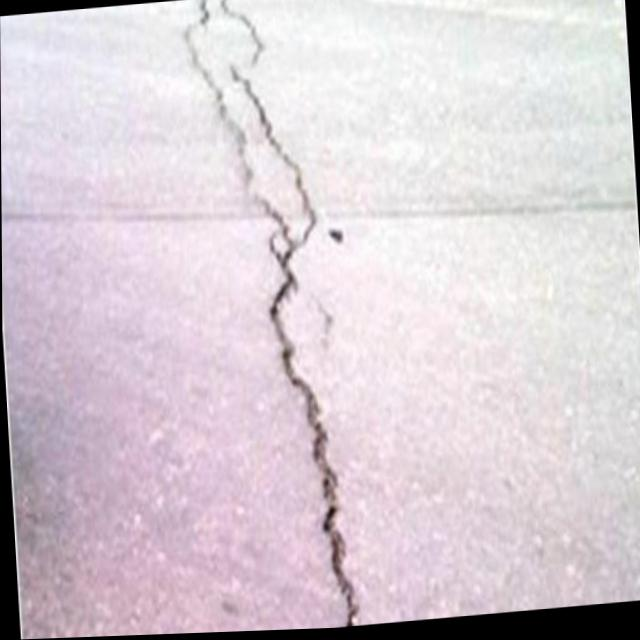Crack: (173, 0, 332, 320), (277, 330, 367, 632)
